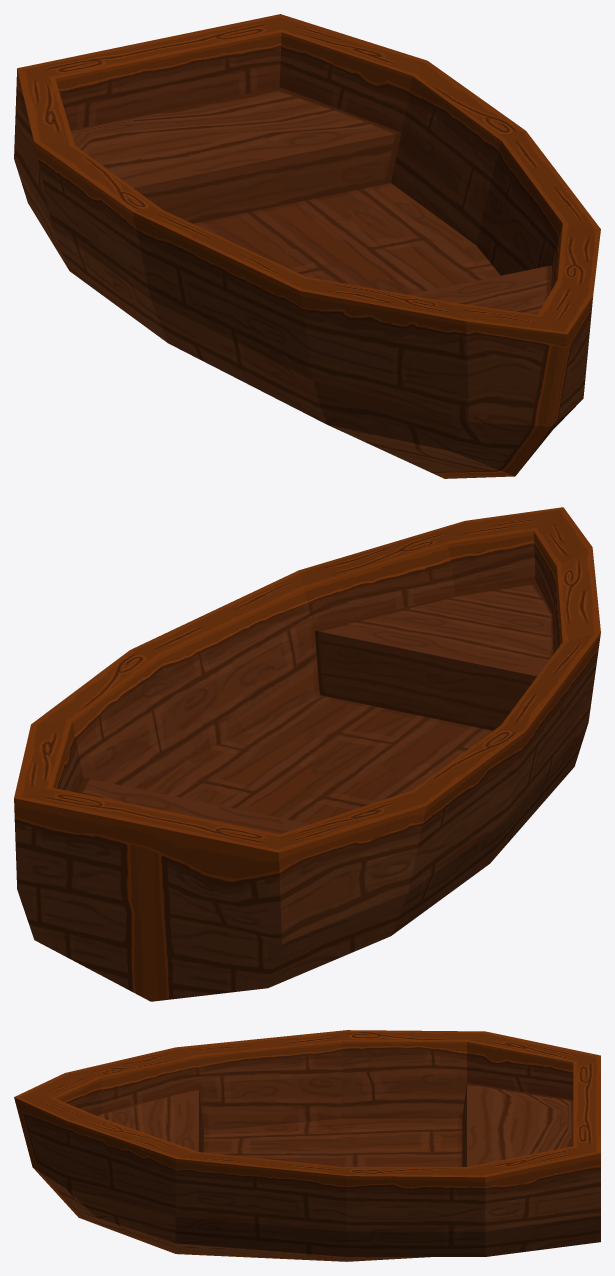
The model's file is Boat_lowpoly.glb.
3 views of the same model, one above another, from view 1: azimuth 30°, elevation 25°; view 2: azimuth 150°, elevation 25°; view 3: azimuth 270°, elevation 25° (orthographic). The views are drawn at different scales.
Visible parts, largest first — view 1: Cube_Material.001_0; view 2: Cube_Material.001_0; view 3: Cube_Material.001_0.
Boxes of the visible parts, x1,y1,x2,y2 form: Cube_Material.001_0: (14, 14, 600, 478); Cube_Material.001_0: (14, 507, 600, 1001); Cube_Material.001_0: (14, 1030, 600, 1261).
Size of the model in its own units: 231 by 135 by 424.
1 material, 1 textured.
